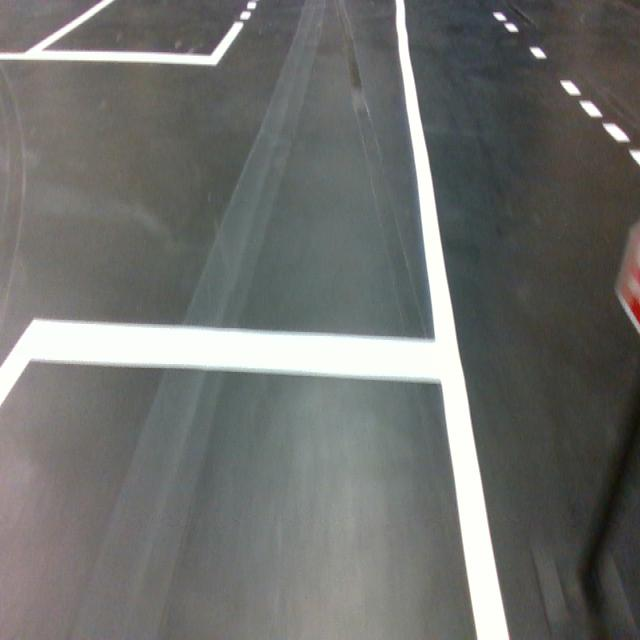stop-sign: (613, 216, 640, 336)
